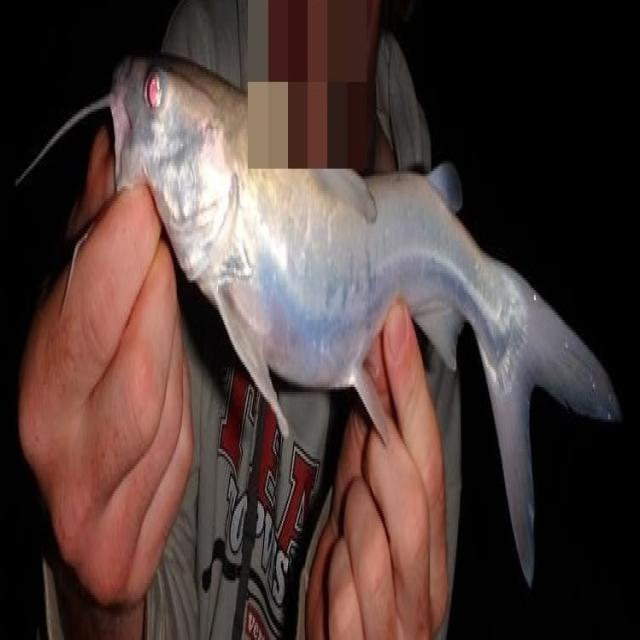Catfish: (95, 40, 624, 617)
